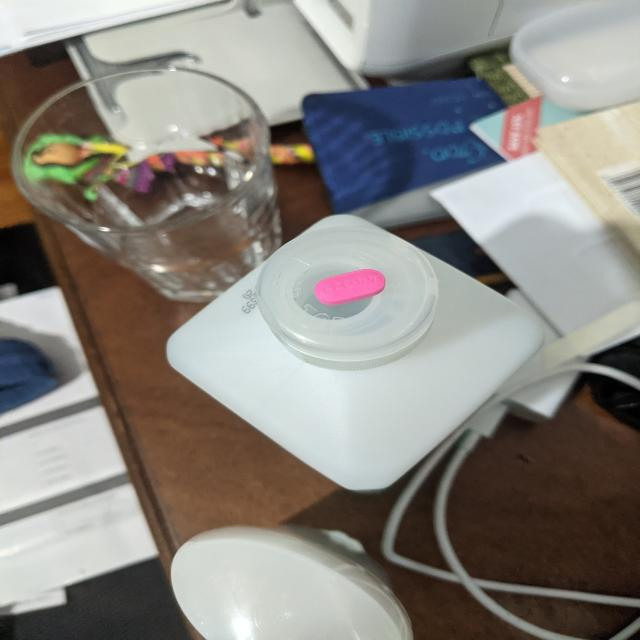non-organic waste: (312, 267, 386, 306)
